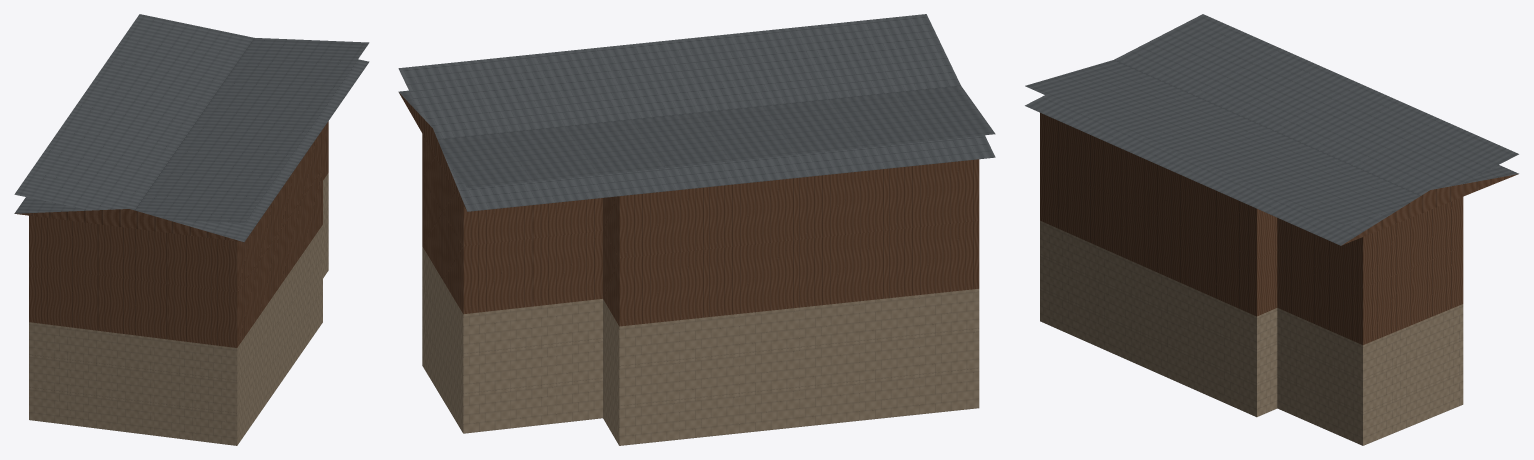
Rendered from bld_c40_-49_458.gltf.
3 views of the same model, side by side, from view 1: azimuth 30°, elevation 25°; view 2: azimuth 150°, elevation 25°; view 3: azimuth 270°, elevation 25° (orthographic). The views are drawn at different scales.
Visible parts, largest first — view 1: bld_c40_-49_458; view 2: bld_c40_-49_458; view 3: bld_c40_-49_458.
Part boxes in pixels (x1,y1,x2,y2): bld_c40_-49_458: (14,14,369,445); bld_c40_-49_458: (398,14,995,445); bld_c40_-49_458: (1025,14,1518,445).
Bounding box in the file's own units: 23.03 × 11.9 × 22.71.
4 materials, 4 textured.
